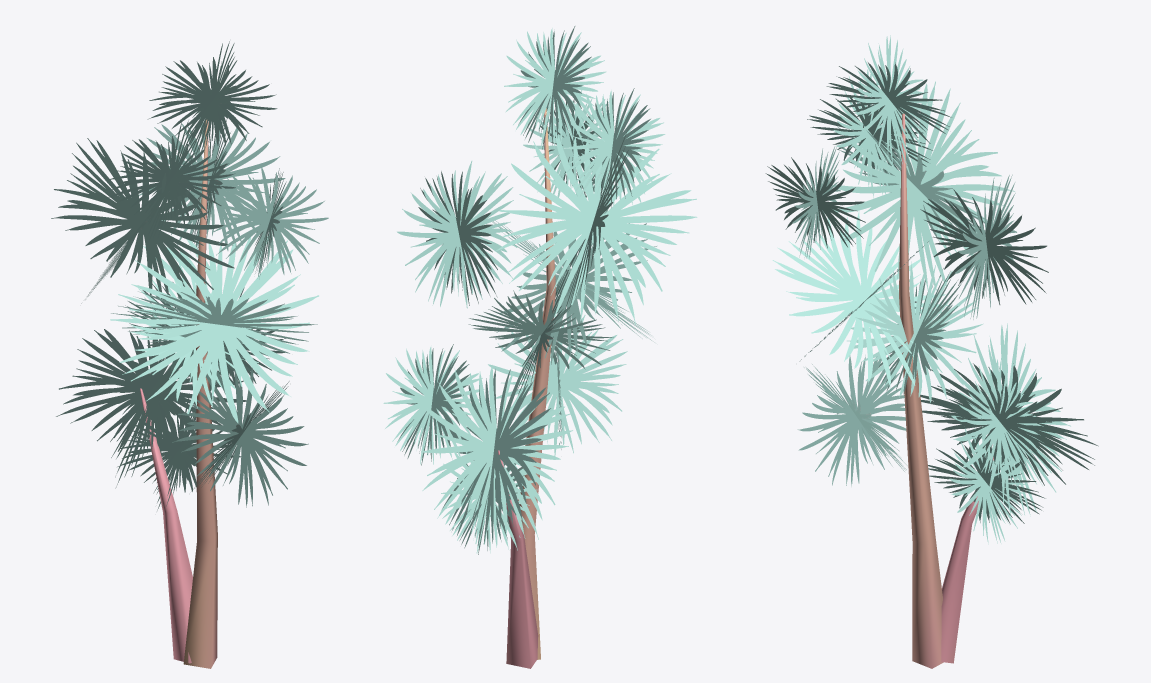
The model's file is filao_loin.fbx.
3 views of the same model, side by side, from view 1: azimuth 30°, elevation 25°; view 2: azimuth 150°, elevation 25°; view 3: azimuth 270°, elevation 25° (orthographic). The views are drawn at different scales.
Parts seen in each view (by area): view 1: far_folliage, far_trunk; view 2: far_folliage, far_trunk; view 3: far_folliage, far_trunk.
Boxes of the visible parts, <box> form: far_folliage: <box>51,41,328,510</box>; far_trunk: <box>140,120,217,668</box>; far_folliage: <box>383,26,697,554</box>; far_trunk: <box>498,101,555,668</box>; far_folliage: <box>765,35,1098,544</box>; far_trunk: <box>899,113,993,668</box>.
Bounding box in the file's own units: 823 × 1950 × 1106.
